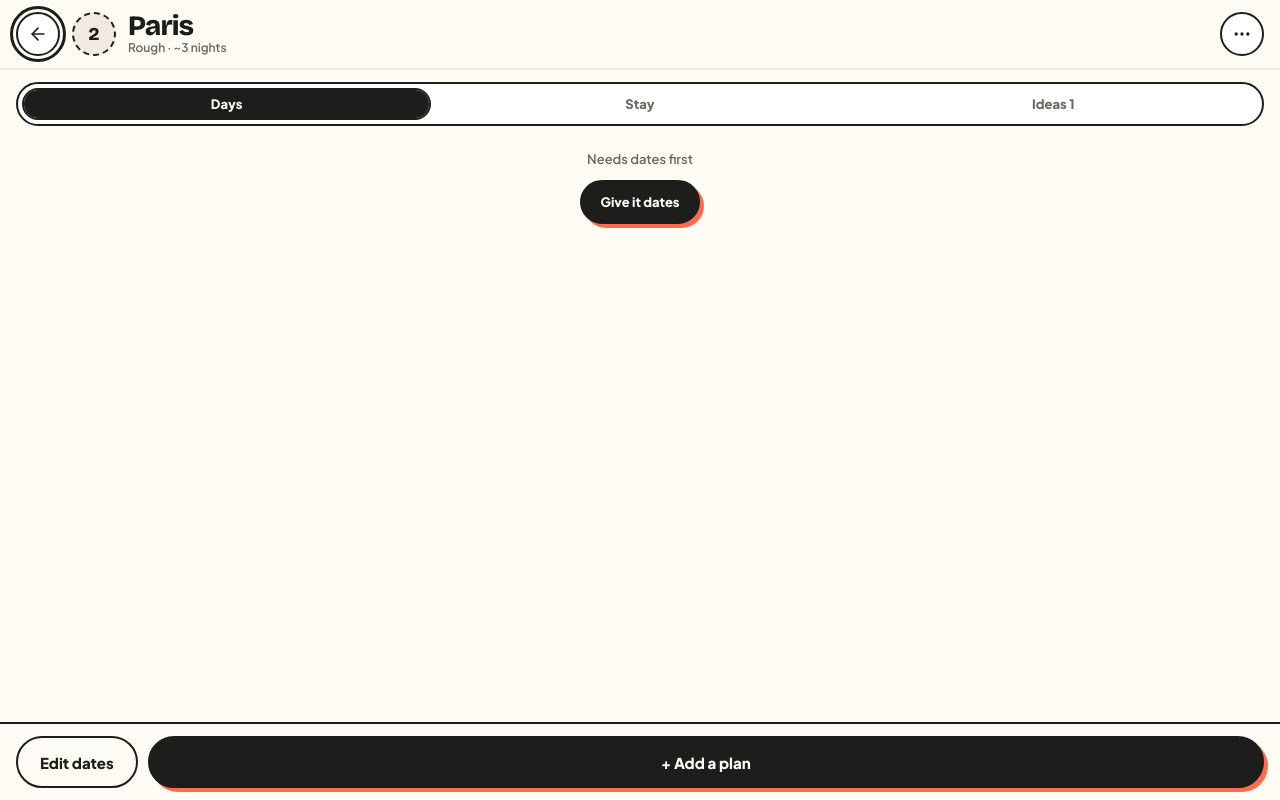
Test case: StopSheet (PLAN.md §7.2) › a rough stop: Rough meta, Days asks for dates, its idea still opens
Check: the text "Rough · ~3 nights" is shown, box left=128, top=40, right=227, bottom=56
Check: the text "Needs dates first" is shown, box left=587, top=150, right=693, bottom=168
Click the button "Give it dates". click: point(640, 202)
box: left=580, top=180, right=700, bottom=224
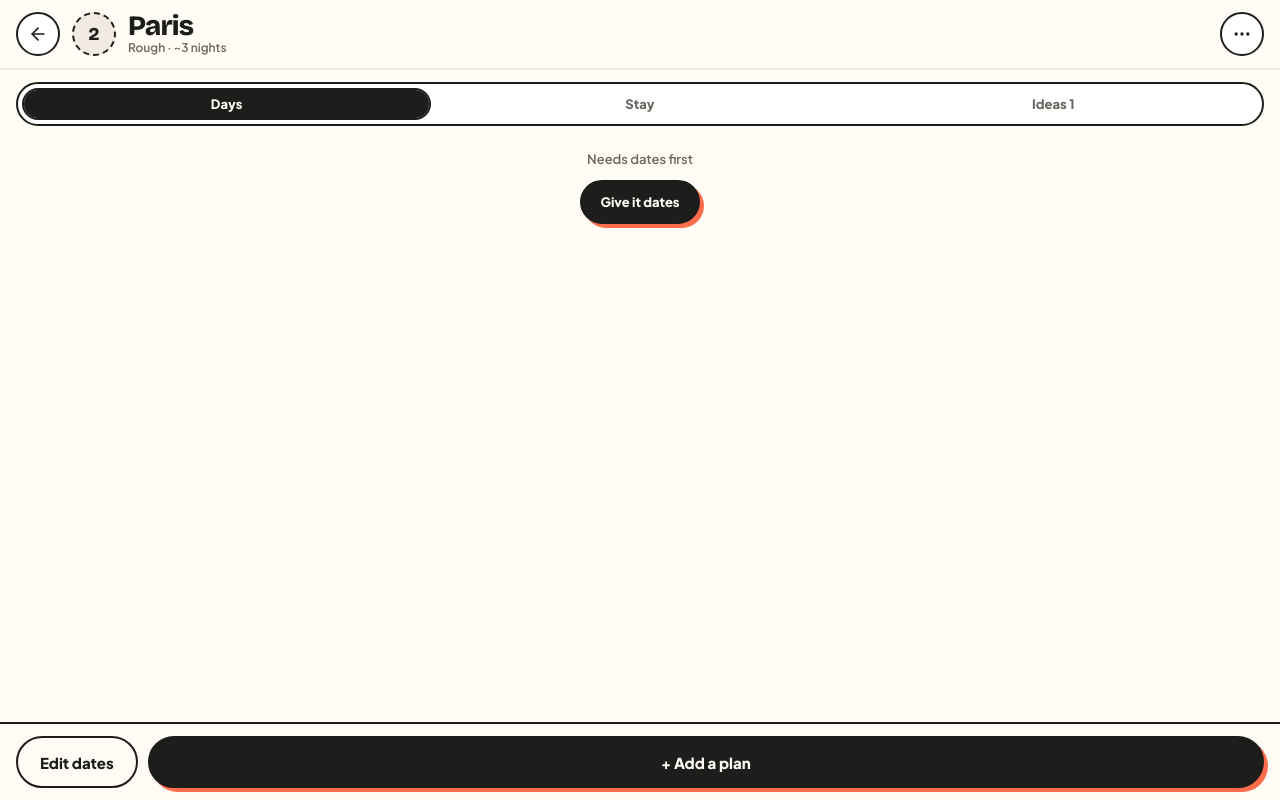
Click the radio button labelled "Ideas 1". click: point(1053, 104)
box: left=849, top=88, right=1258, bottom=120
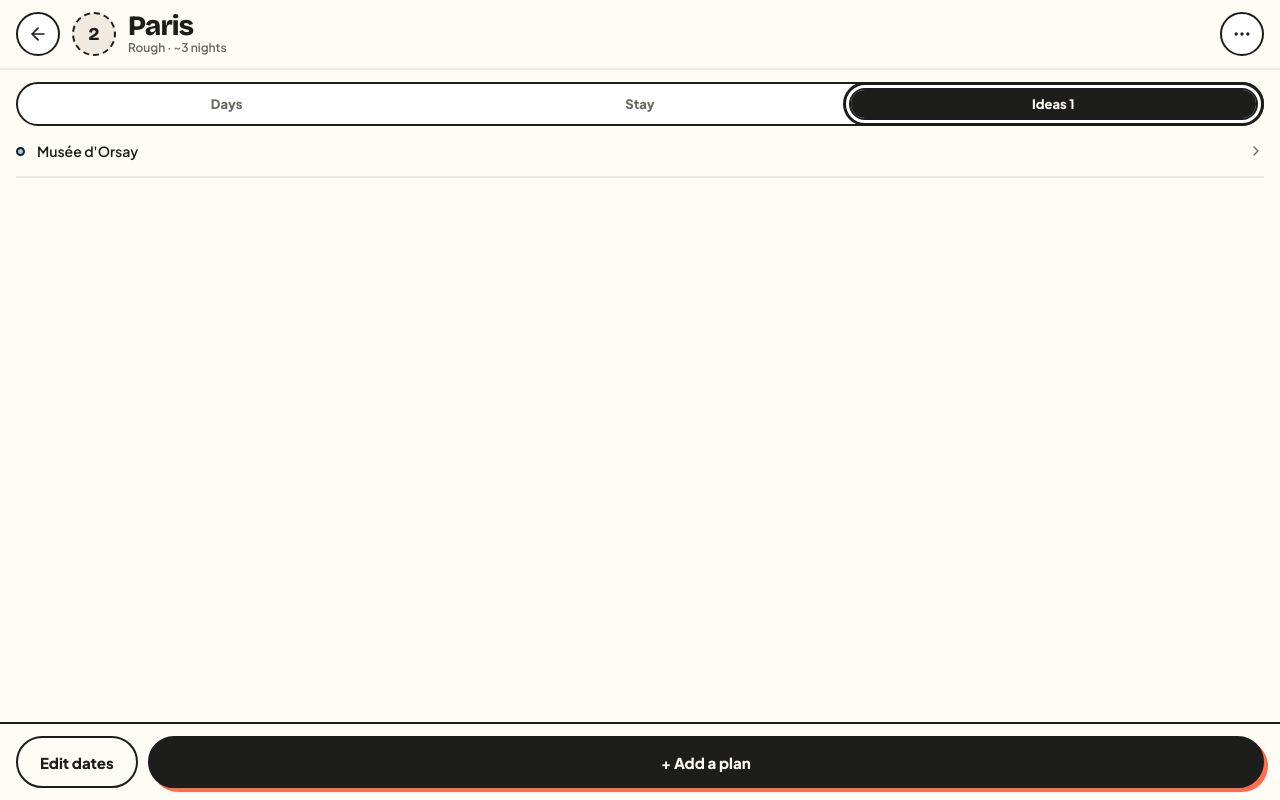
Check: the button with aria-label "Open Musée d'Orsay" is shown, box left=16, top=126, right=1264, bottom=178
